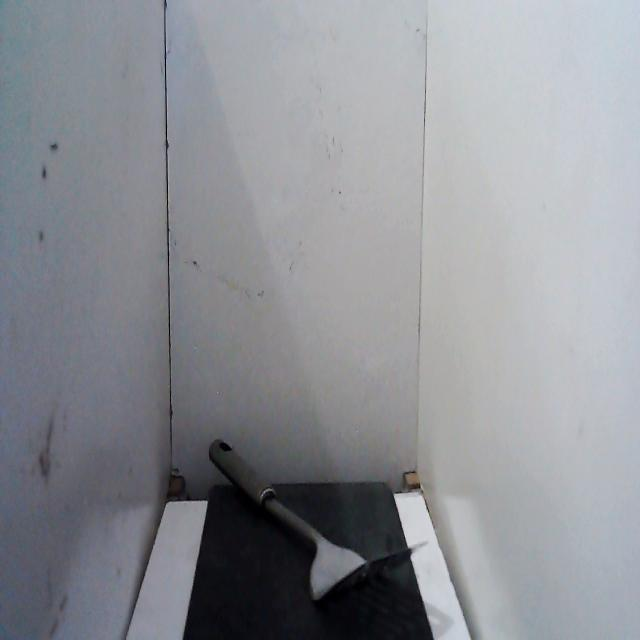metal: (204, 430, 434, 614)
